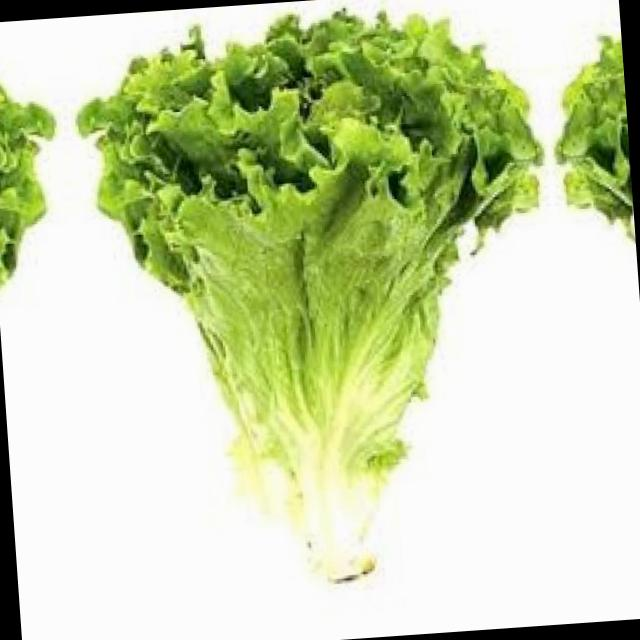healthy: (79, 0, 565, 598), (550, 0, 640, 564), (0, 32, 78, 605)
